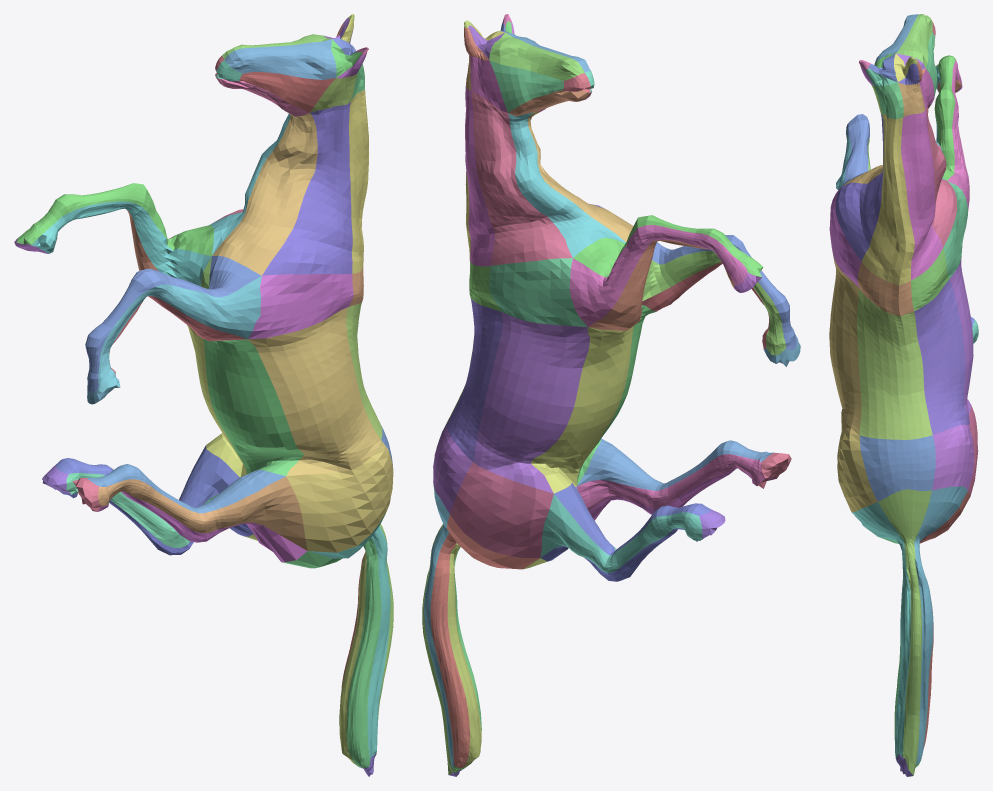
The model's file is horse06_output.obj.
3 views of the same model, side by side, from view 1: azimuth 30°, elevation 25°; view 2: azimuth 150°, elevation 25°; view 3: azimuth 270°, elevation 25° (orthographic). The views are drawn at different scales.
Size of the model in its own units: 0.6465 by 1.32 by 0.2498.
